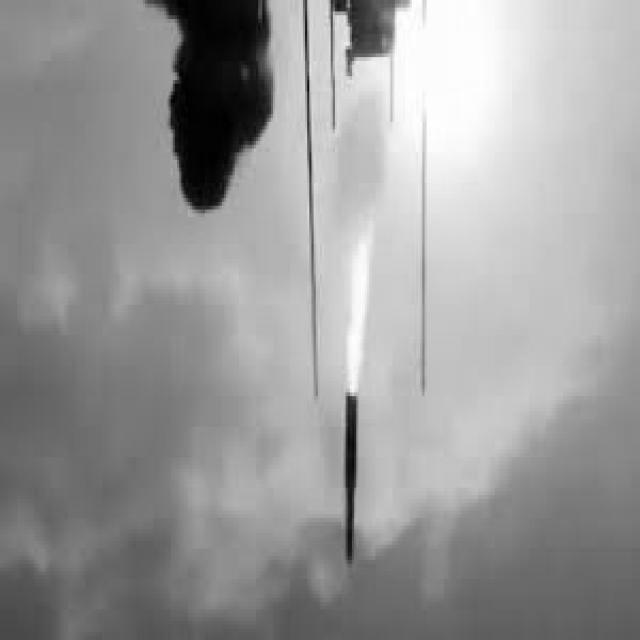missile: (339, 390, 360, 573)
